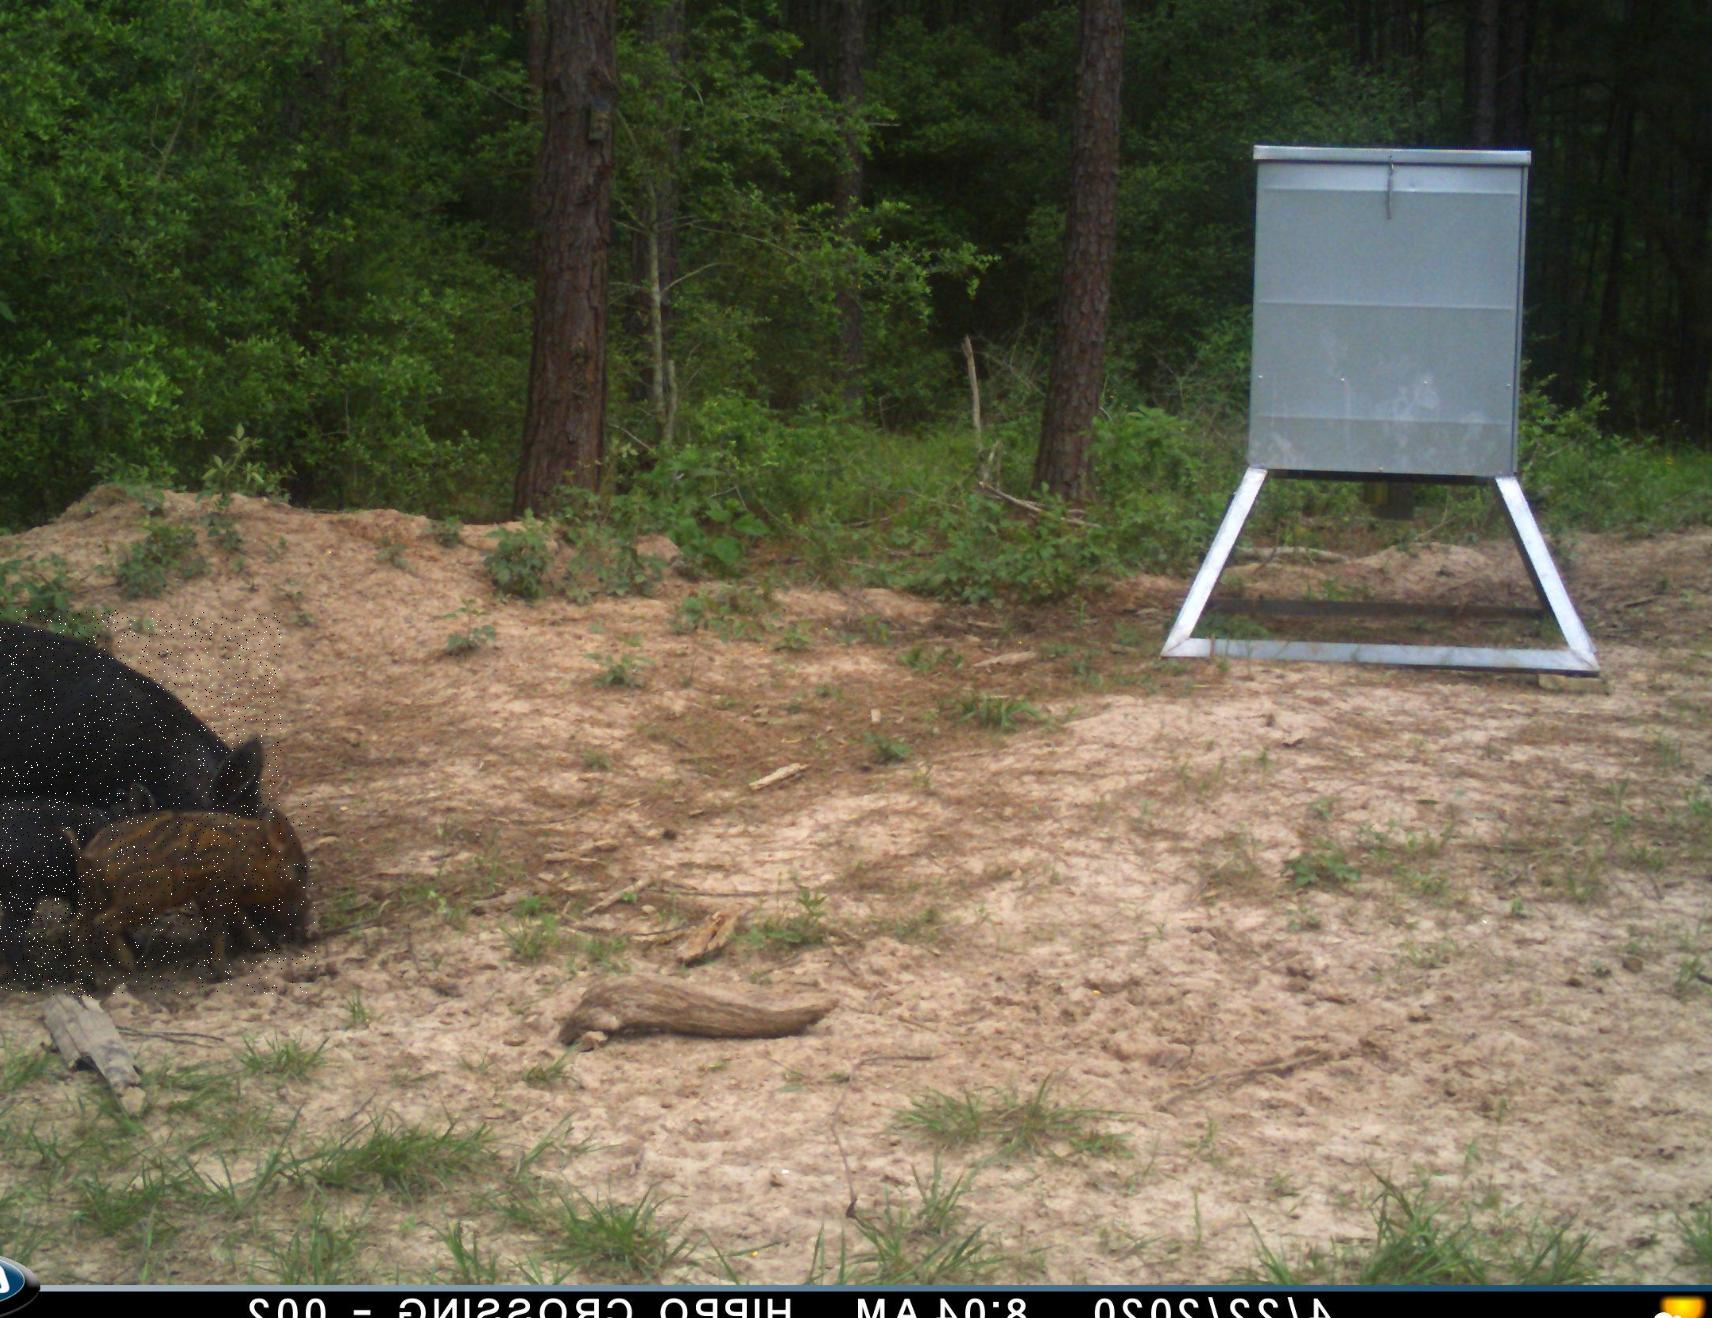Hog: (0, 611, 281, 966), (50, 804, 317, 994), (0, 791, 93, 998)
